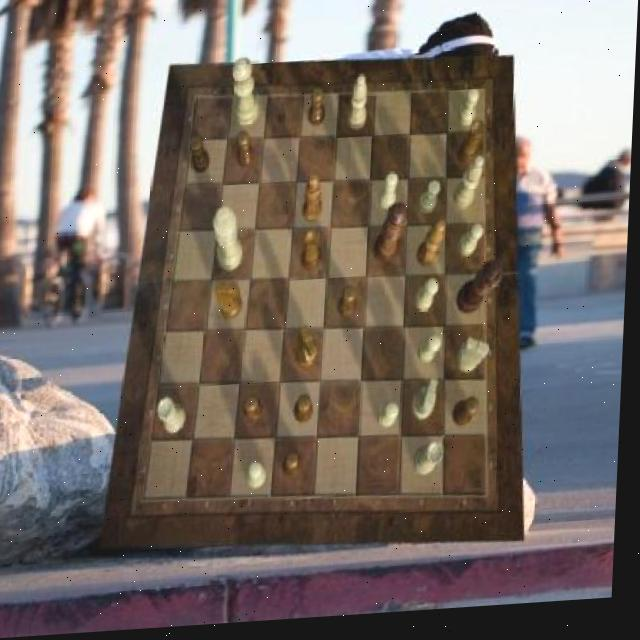bishop: (419, 227, 448, 275), (304, 178, 326, 228)
black-bishop: (459, 267, 505, 323)
black-king: (216, 283, 245, 323), (298, 330, 322, 374)
black-knight: (189, 138, 212, 176), (455, 405, 482, 434), (237, 133, 256, 171), (309, 92, 327, 131), (340, 291, 358, 325), (246, 399, 267, 428), (297, 398, 317, 428), (286, 456, 306, 483)
black-pawn: (375, 207, 410, 272)
black-queen: (456, 127, 485, 173), (303, 233, 325, 276)
black-rook: (455, 162, 485, 216), (348, 79, 369, 136)
white-bishop: (213, 208, 246, 275)
white-king: (459, 343, 493, 381), (414, 384, 440, 427)
white-knight: (459, 231, 485, 265), (457, 94, 479, 134), (418, 284, 442, 319), (420, 185, 443, 221), (380, 177, 401, 216), (420, 341, 444, 370), (380, 407, 404, 434), (250, 465, 271, 494)
white-pawn: (230, 60, 260, 131)
white-queen: (158, 399, 189, 438), (417, 446, 448, 482)
